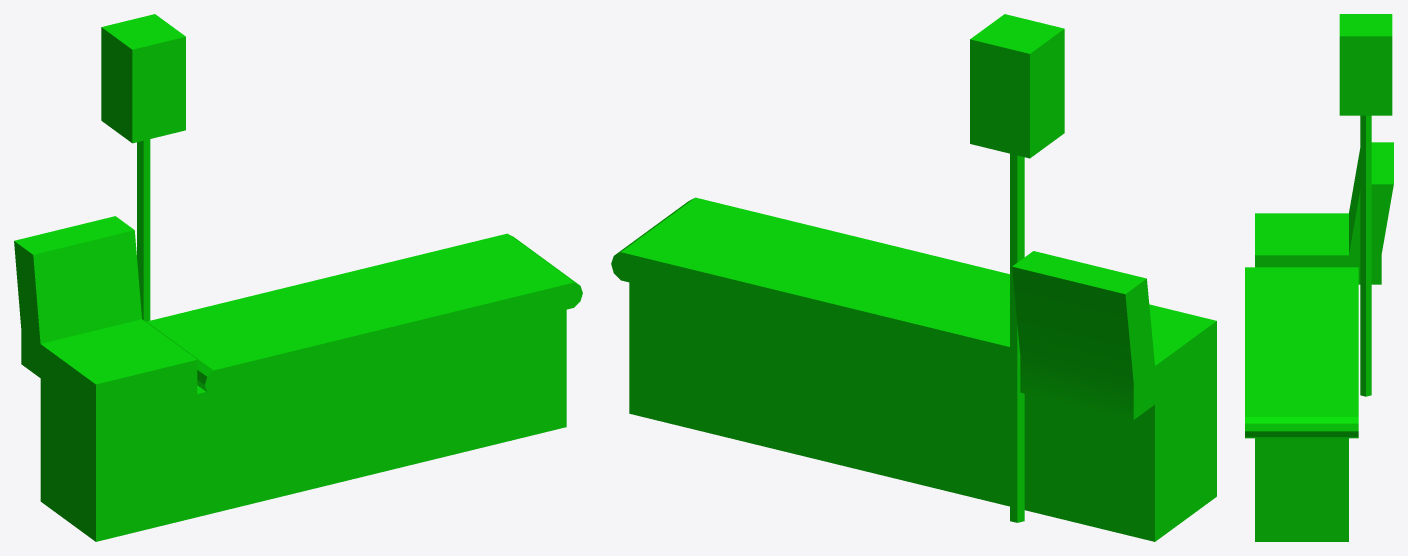
Rendered from Register_1.fbx.
3 views of the same model, side by side, from view 1: azimuth 30°, elevation 25°; view 2: azimuth 150°, elevation 25°; view 3: azimuth 270°, elevation 25° (orthographic). The views are drawn at different scales.
Visible parts, largest first — view 1: pCube13; view 2: pCube13; view 3: pCube13.
Part boxes in pixels (left/top/right/bottom): pCube13: left=14, top=14, right=582, bottom=541; pCube13: left=611, top=14, right=1216, bottom=541; pCube13: left=1245, top=14, right=1393, bottom=541.
Size of the model in its own units: 40.91 by 35.3 by 12.9.
